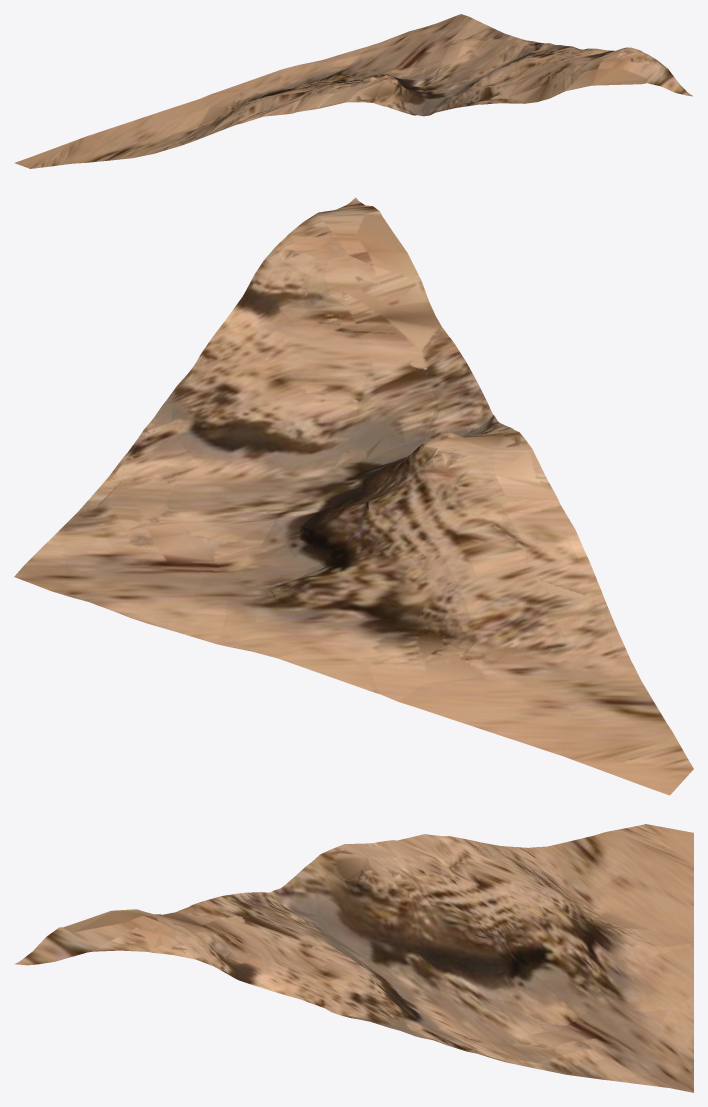
3 views of the same model, one above another, from view 1: azimuth 30°, elevation 25°; view 2: azimuth 150°, elevation 25°; view 3: azimuth 270°, elevation 25° (orthographic). The views are drawn at different scales.
Bounding box in the file's own units: 4.18 × 1.24 × 3.77.
Materials: 1 (1 with a texture image).
